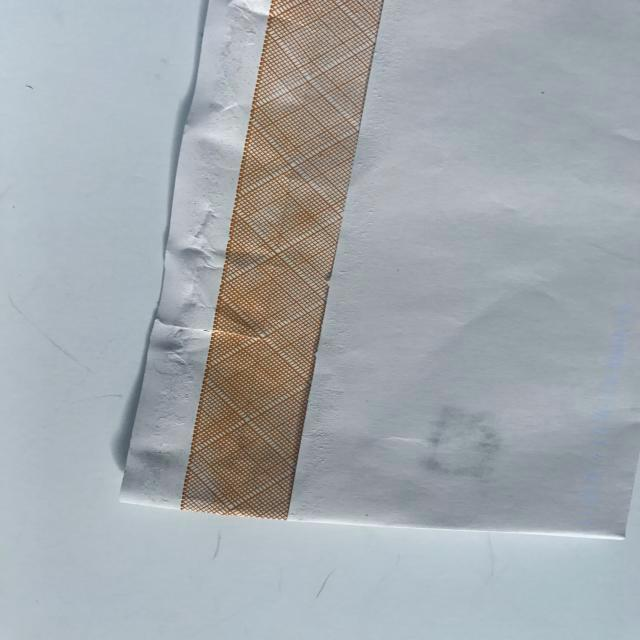paper: (117, 5, 640, 544)
